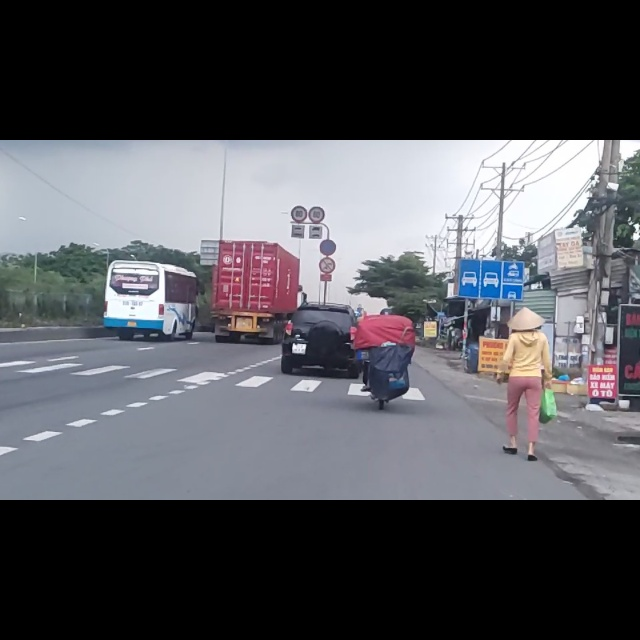bien_cam: (459, 211, 522, 286), (319, 175, 337, 205), (291, 116, 307, 147), (309, 119, 325, 147), (319, 209, 335, 237)
